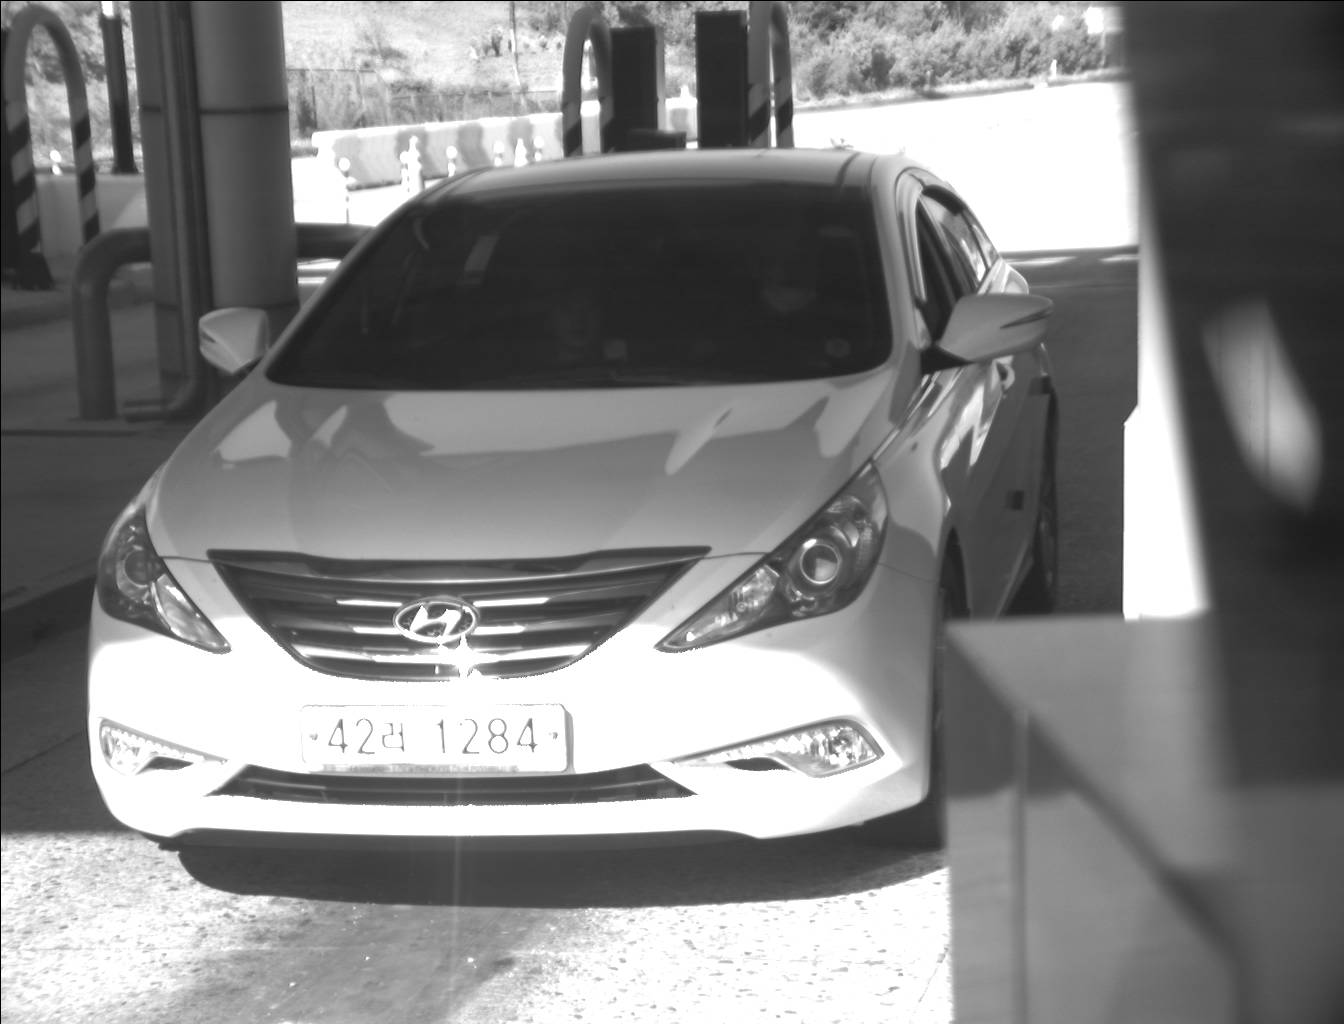car: (82, 146, 1065, 871)
plate: (293, 698, 573, 779)
